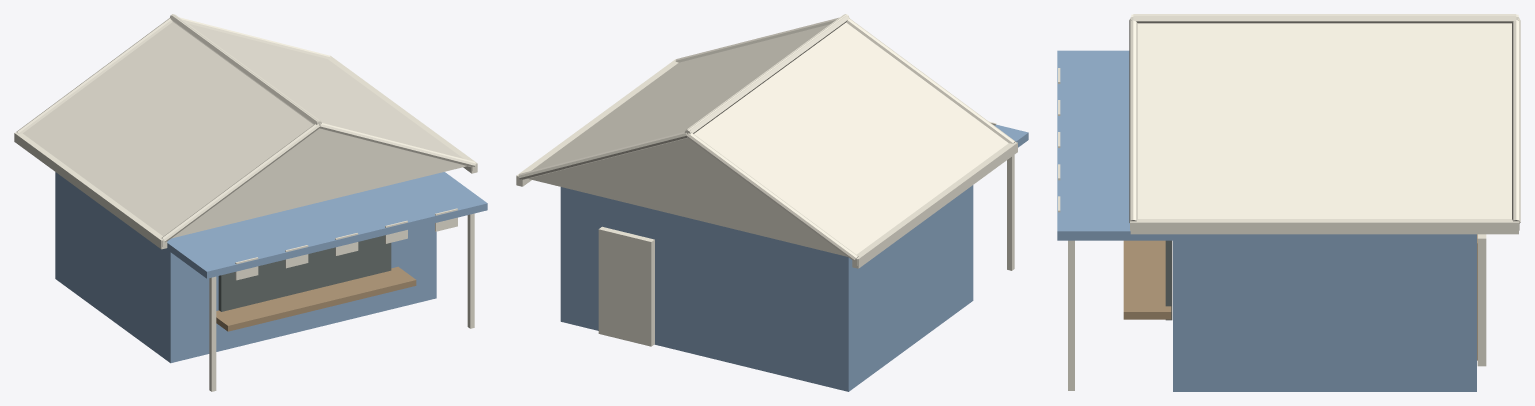
3 views of the same model, side by side, from view 1: azimuth 30°, elevation 25°; view 2: azimuth 150°, elevation 25°; view 3: azimuth 270°, elevation 25° (orthographic). The views are drawn at different scales.
Bounding box in the file's own units: 8.56 × 5.72 × 8.22.
